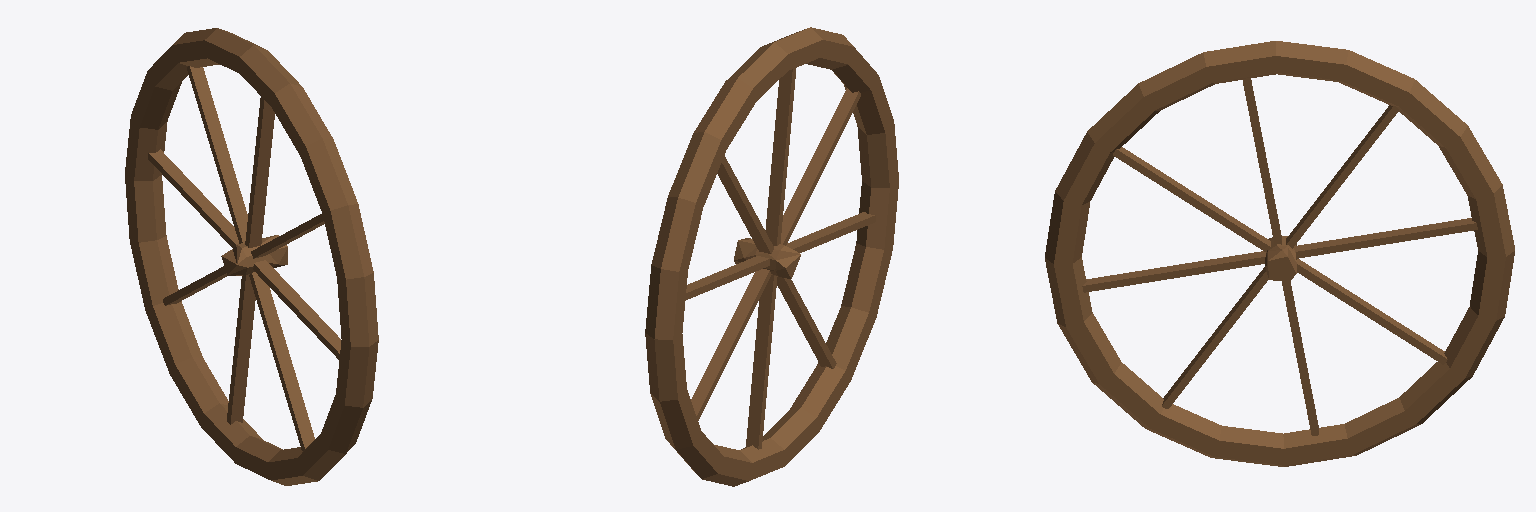
3 views of the same model, side by side, from view 1: azimuth 30°, elevation 25°; view 2: azimuth 150°, elevation 25°; view 3: azimuth 270°, elevation 25° (orthographic).
Visible parts, largest first — view 1: Box004, Box010, Box006, Box005, Box009, Box007, Box011, Cylinder001, Box008; view 2: Box004, Box005, Box009, Box008, Box010, Box006, Cylinder001, Box007, Box011; view 3: Box004, Box011, Box007, Box008, Box006, Box010, Box005, Box009, Cylinder001.
Boxes of the visible parts, x1=… form: Box004: x1=125, y1=28, x2=378, y2=485; Box010: x1=249, y1=272, x2=314, y2=450; Box006: x1=187, y1=66, x2=247, y2=243; Box005: x1=245, y1=97, x2=274, y2=247; Box009: x1=227, y1=275, x2=255, y2=424; Box007: x1=148, y1=149, x2=238, y2=247; Box011: x1=253, y1=260, x2=340, y2=359; Cylinder001: x1=221, y1=235, x2=287, y2=275; Box008: x1=163, y1=266, x2=226, y2=305; Box004: x1=645, y1=27, x2=898, y2=486; Box005: x1=765, y1=68, x2=795, y2=245; Box009: x1=746, y1=275, x2=777, y2=449; Box008: x1=691, y1=269, x2=771, y2=420; Box010: x1=777, y1=277, x2=836, y2=368; Box006: x1=717, y1=155, x2=773, y2=253; Cylinder001: x1=734, y1=238, x2=800, y2=278; Box007: x1=685, y1=256, x2=769, y2=300; Box011: x1=786, y1=212, x2=875, y2=252; Box004: x1=1045, y1=41, x2=1514, y2=466; Box011: x1=1082, y1=251, x2=1265, y2=292; Box007: x1=1295, y1=218, x2=1477, y2=258; Box008: x1=1297, y1=259, x2=1447, y2=364; Box006: x1=1286, y1=105, x2=1398, y2=248; Box010: x1=1162, y1=266, x2=1268, y2=408; Box005: x1=1242, y1=78, x2=1281, y2=244; Box009: x1=1282, y1=281, x2=1318, y2=435; Cylinder001: x1=1265, y1=236, x2=1296, y2=281.
Size of the model in its own units: 5.05 by 39.33 by 39.33.
Materials: 1 (1 with a texture image).